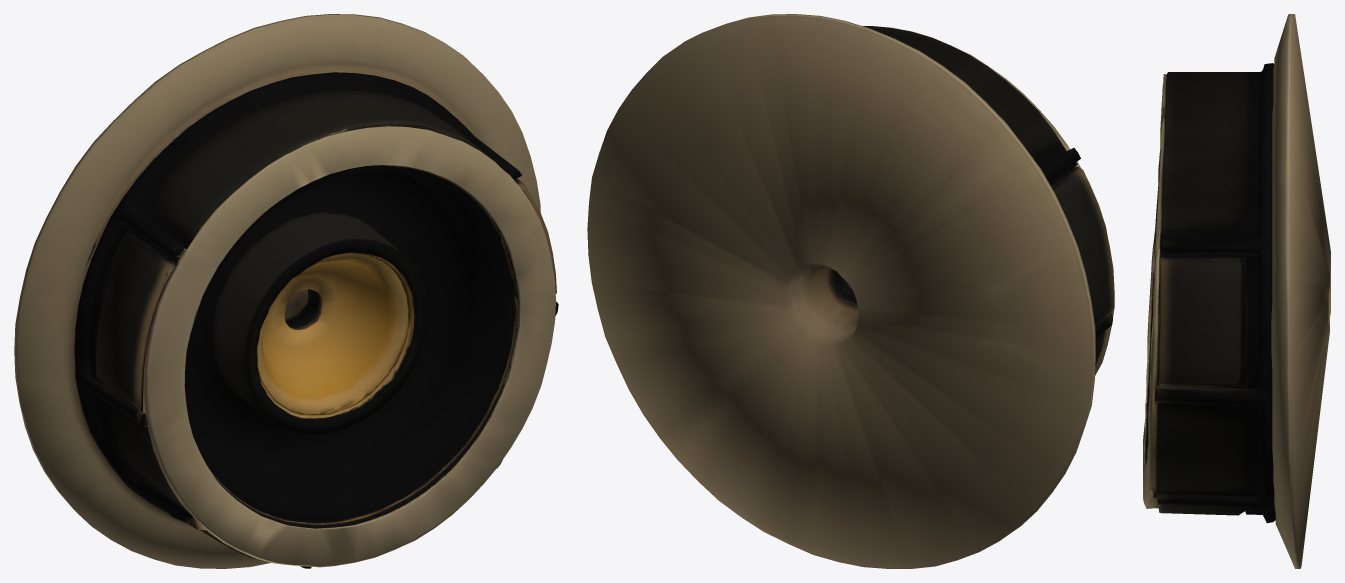
File: aisle-beacon.glb
The picture shows the model from 3 angles, left to right: view 1: azimuth 30°, elevation 25°; view 2: azimuth 150°, elevation 25°; view 3: azimuth 270°, elevation 25°; orthographic projection. The views are drawn at different scales.
Parts seen in each view (by area): view 1: Recessed brass aisle beacon; view 2: Recessed brass aisle beacon; view 3: Recessed brass aisle beacon.
Boxes of the visible parts, bbox=[...] form: Recessed brass aisle beacon: bbox=[14, 14, 558, 568]; Recessed brass aisle beacon: bbox=[587, 14, 1114, 568]; Recessed brass aisle beacon: bbox=[1143, 14, 1330, 568].
Bounding box in the file's own units: 0.998 × 0.998 × 0.3379.
Materials: 1 (1 with a texture image).
